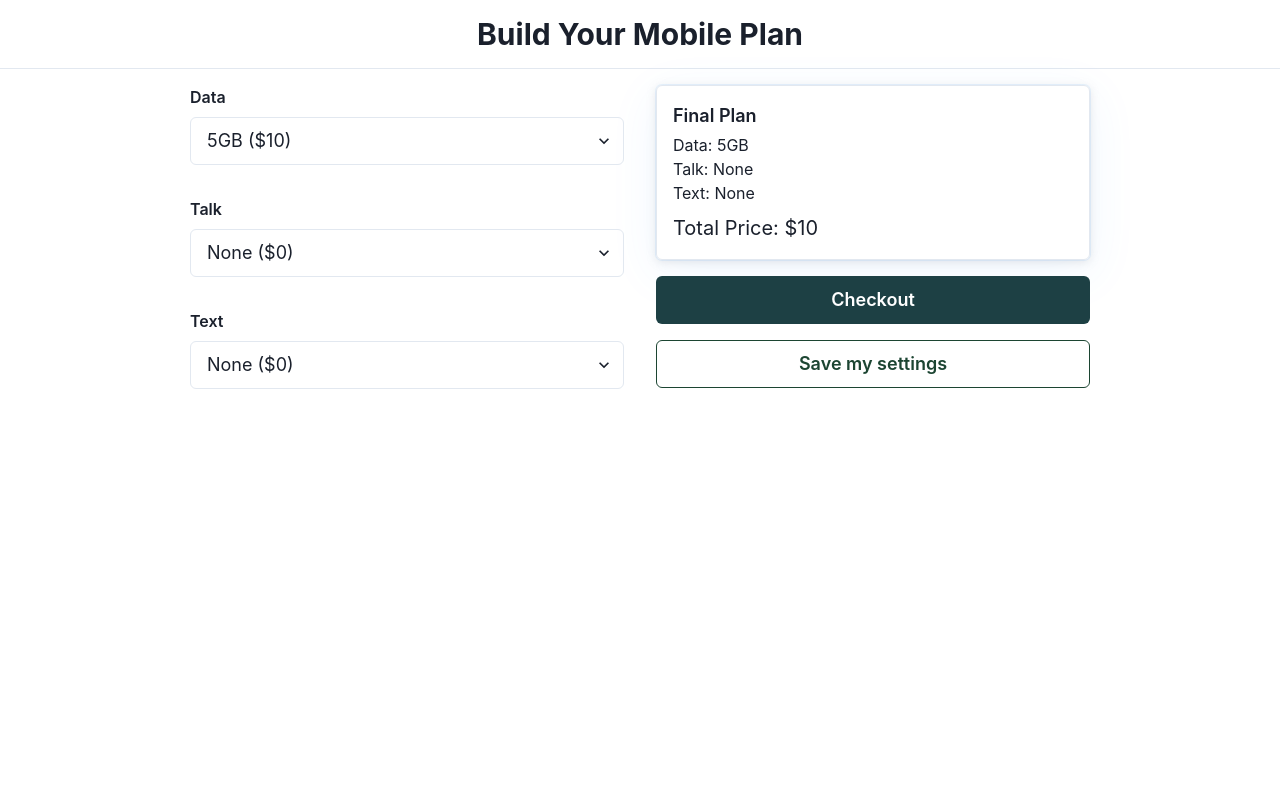
Scenario: Mobile Plan Builder › cancels the checkout modal
Click the button with test id "checkout-button".
click(873, 300)  # box [656, 276, 1090, 324]
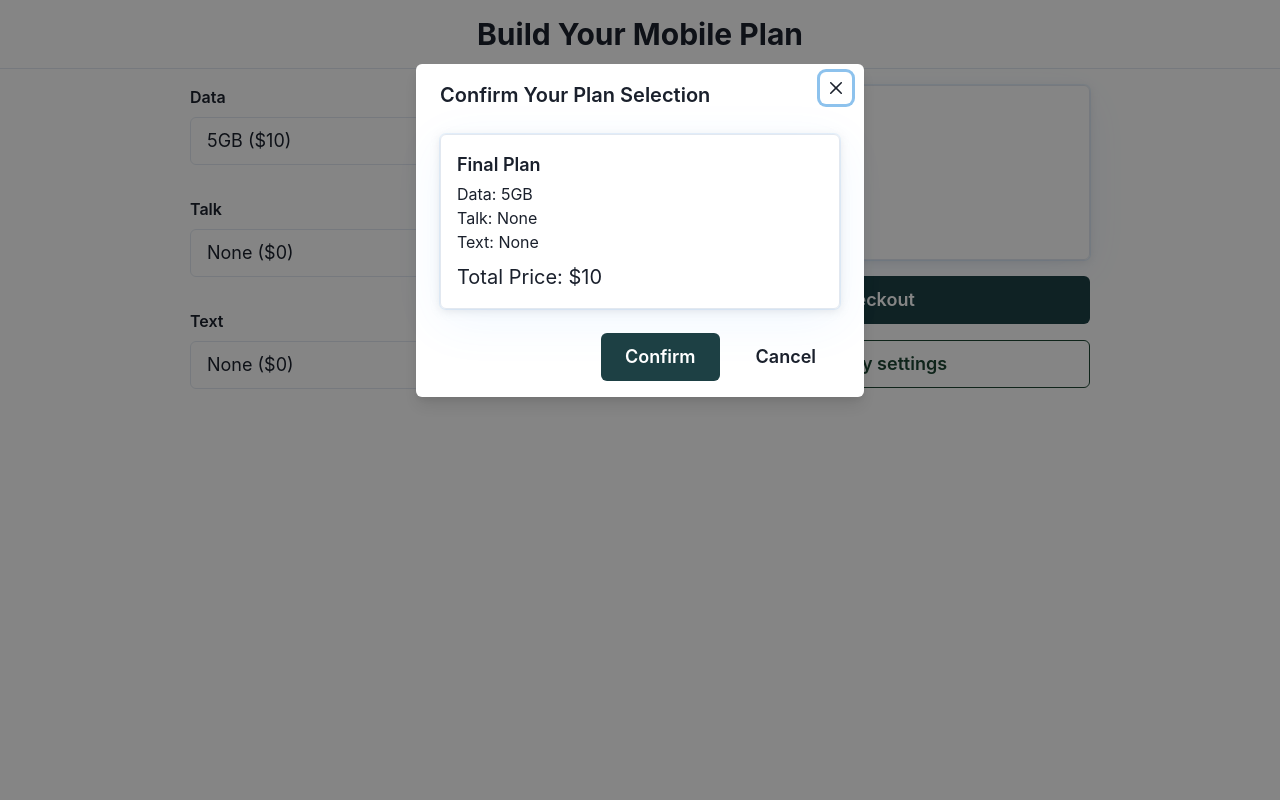
Result: the dialog with test id "checkout-modal" is shown at [416, 64, 864, 397]
Click the button with test id "cancel-button".
click(787, 357)  # box [732, 333, 841, 381]
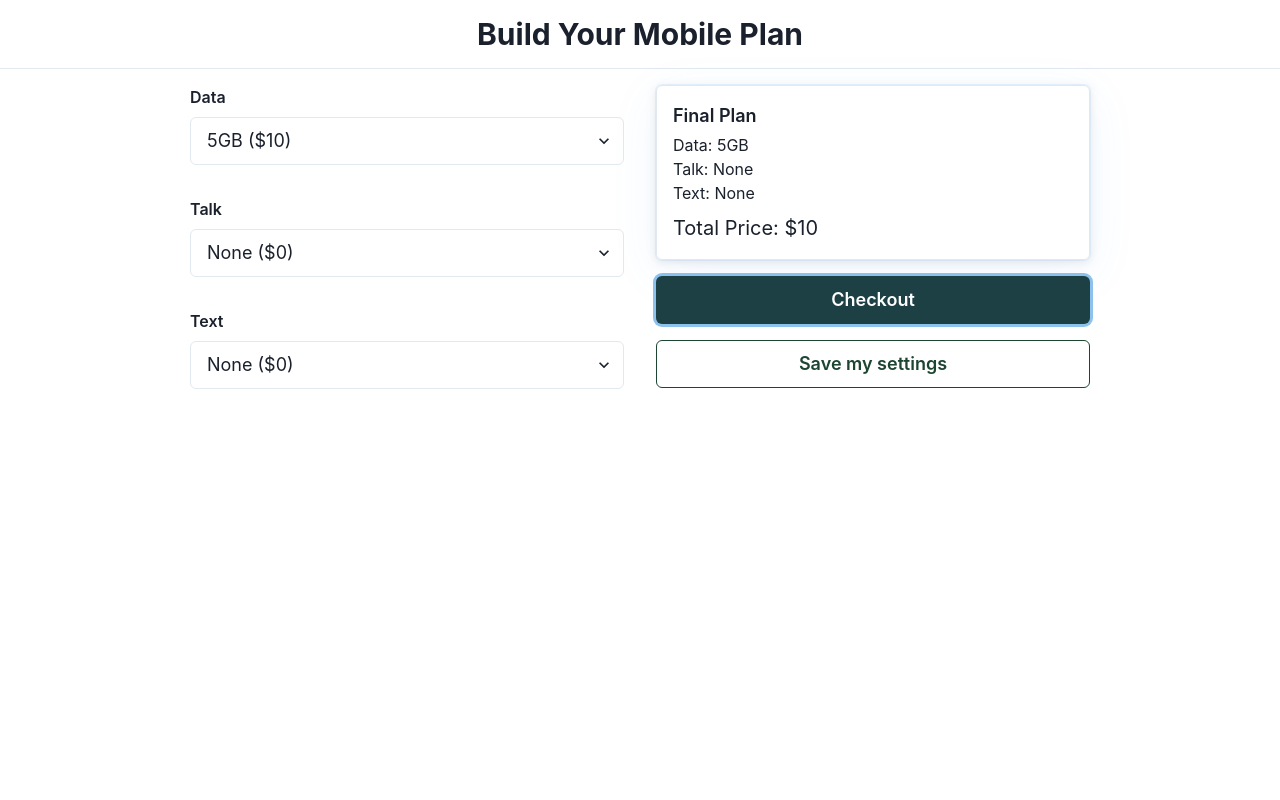
Result: the dialog with test id "checkout-modal" is gone
